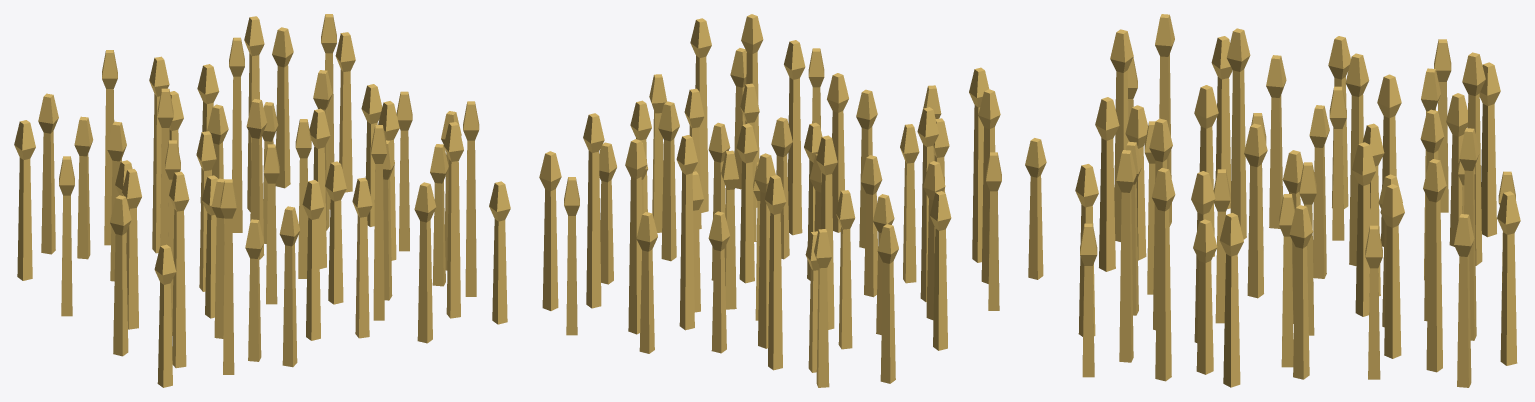
The model's file is crop-wheat.glb.
3 views of the same model, side by side, from view 1: azimuth 30°, elevation 25°; view 2: azimuth 150°, elevation 25°; view 3: azimuth 270°, elevation 25° (orthographic). The views are drawn at different scales.
Visible parts, largest first — view 1: crop-wheat; view 2: crop-wheat; view 3: crop-wheat.
Boxes of the visible parts, x1,y1,x2,y2 form: crop-wheat: (14, 14, 510, 387); crop-wheat: (539, 14, 1046, 387); crop-wheat: (1075, 14, 1520, 387).
Size of the model in its own units: 0.8265 by 0.428 by 0.8317.
